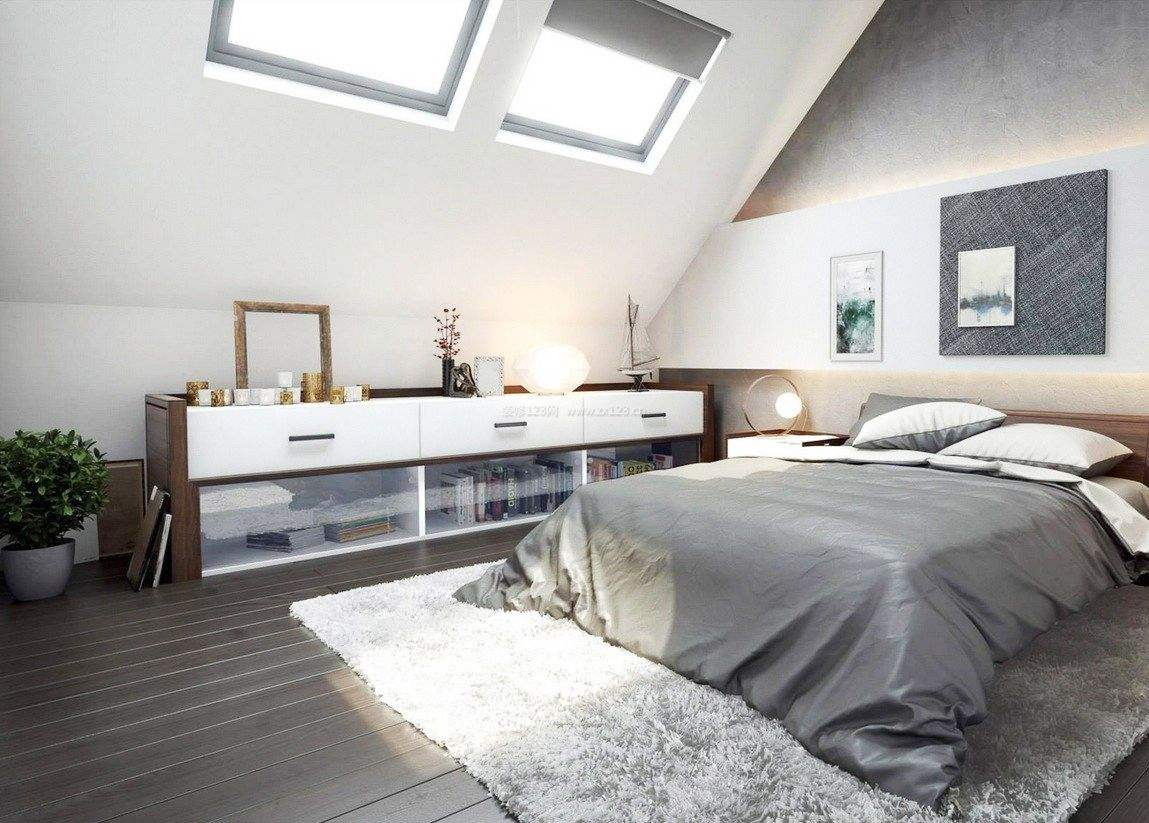床: (449, 444, 1149, 776)
枕头: (835, 401, 1125, 481)
灯: (746, 376, 820, 437), (514, 343, 592, 399)
